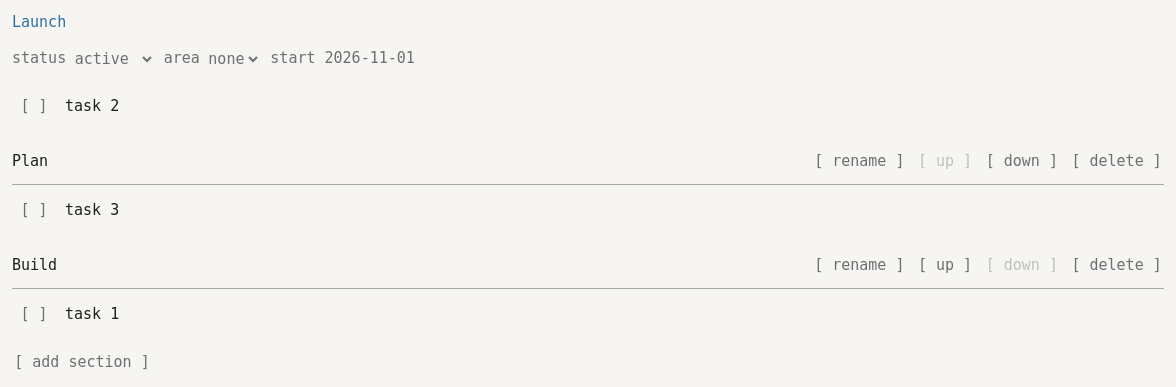
Test: sections › [ rename ] edits the title in place
Expected: the heading "Launch" is shown, [12,13,66,31]
Click the button "[ rename ]" in the row of "Plan" at [859, 162], box [812,140,907,184]
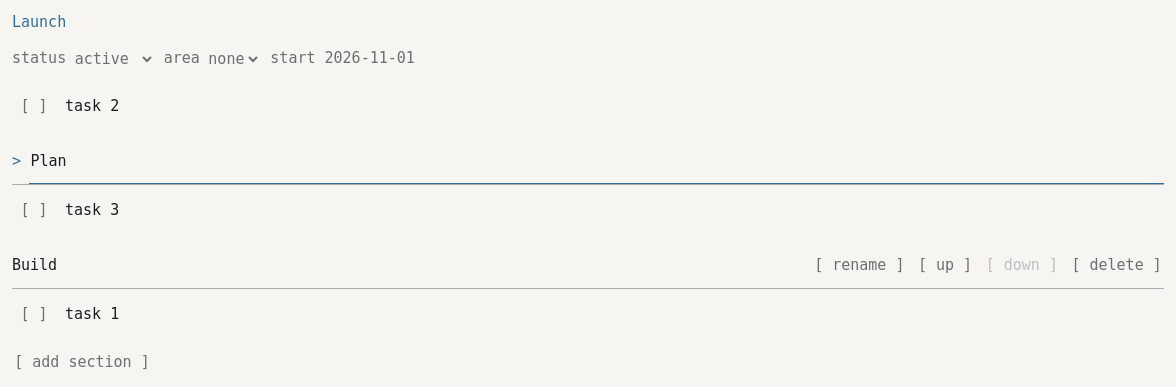
Expected: the field named "rename Plan" holds "Plan"
Replace the text in the field named "rename Plan" with "Research" at [596, 162], box [28,140,1164,184]
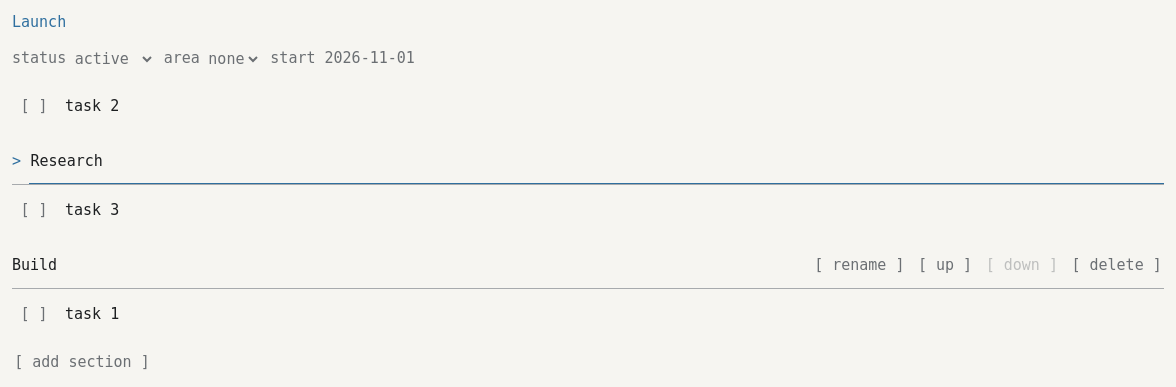
Submit the form from the field named "rename Plan", box [28,140,1164,184]
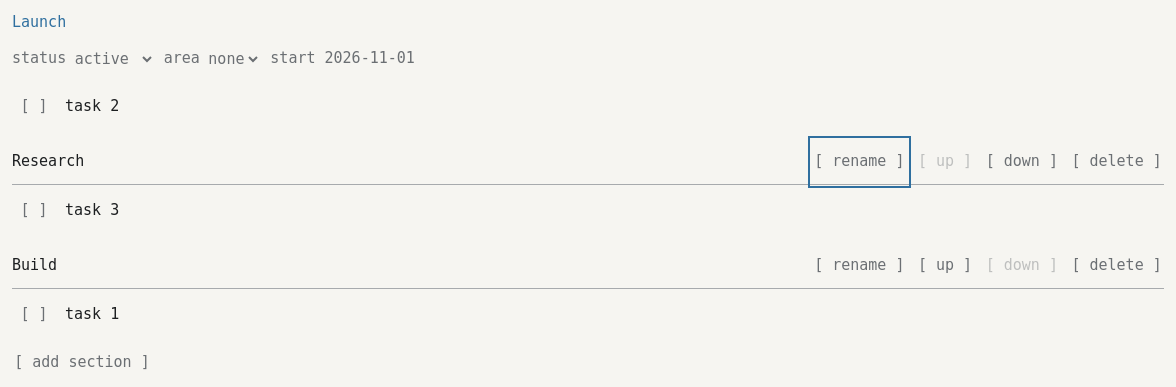
Expected: the heading "Research" is shown, [12,152,84,170]
